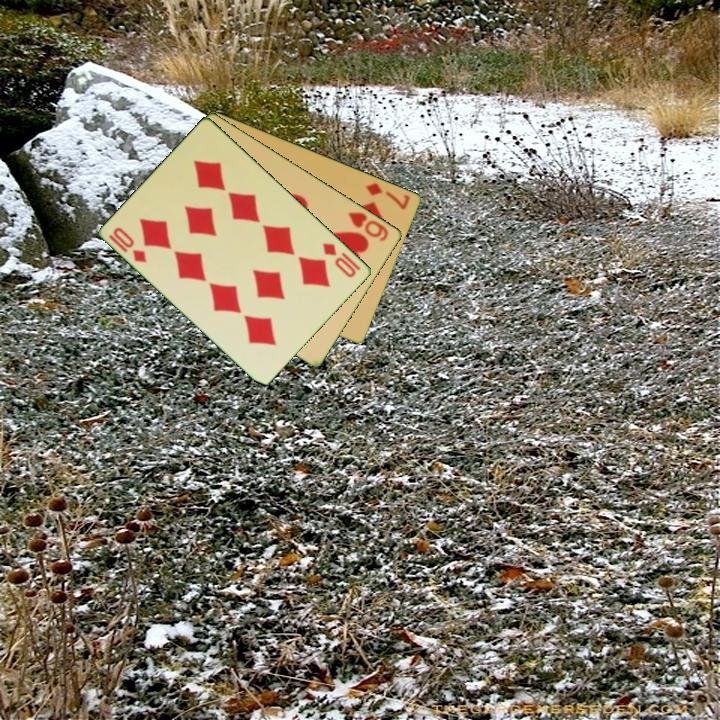10d: (105, 223, 150, 266), (319, 239, 359, 281)
6h: (345, 208, 392, 244)
7d: (363, 179, 413, 212)
